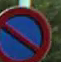No waiting: (0, 5, 50, 61)
